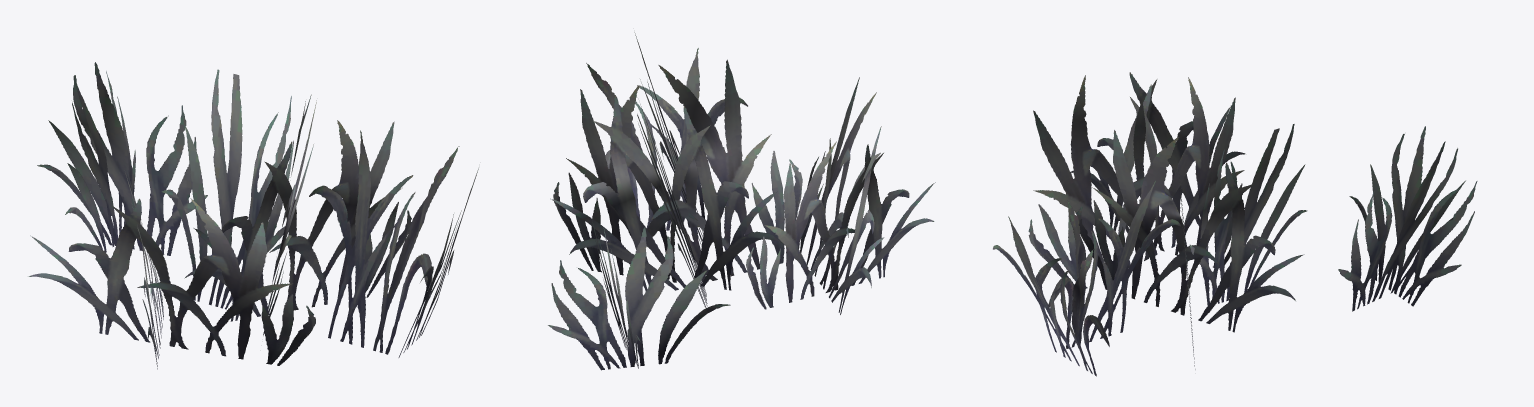
File: Battle_pamierzhanji_zhiwu03_01_fbx.fbx
3 views of the same model, side by side, from view 1: azimuth 30°, elevation 25°; view 2: azimuth 150°, elevation 25°; view 3: azimuth 270°, elevation 25° (orthographic). The views are drawn at different scales.
Parts seen in each view (by area): view 1: Battle_pamierzhanji_zhiwu03_01_fbx__3_; view 2: Battle_pamierzhanji_zhiwu03_01_fbx__3_; view 3: Battle_pamierzhanji_zhiwu03_01_fbx__3_.
Part boxes in pixels (box(x1,y1,x2,y2)): Battle_pamierzhanji_zhiwu03_01_fbx__3_: box(28, 62, 478, 369); Battle_pamierzhanji_zhiwu03_01_fbx__3_: box(548, 32, 935, 370); Battle_pamierzhanji_zhiwu03_01_fbx__3_: box(993, 72, 1477, 376).
Size of the model in its own units: 217 by 120 by 273.
